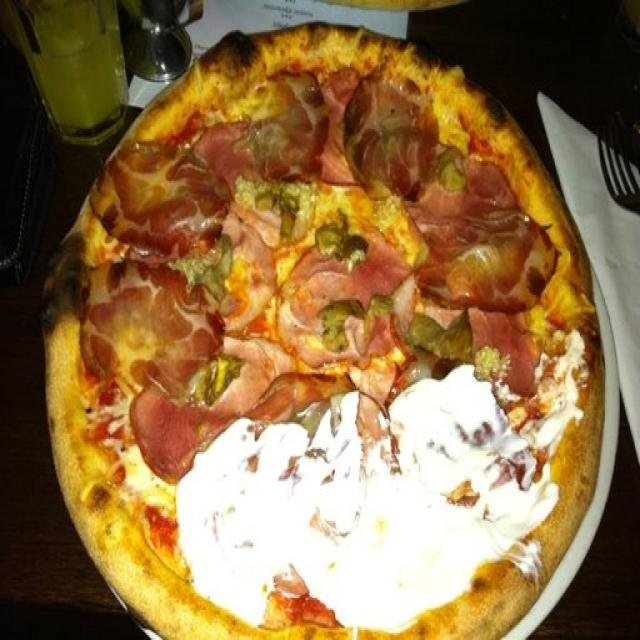Ham: (83, 260, 214, 402), (414, 188, 546, 310), (102, 150, 228, 251), (285, 238, 384, 362), (343, 69, 429, 197), (133, 392, 215, 472), (298, 254, 396, 306), (267, 72, 316, 176)
Pizza: (46, 25, 606, 640)
